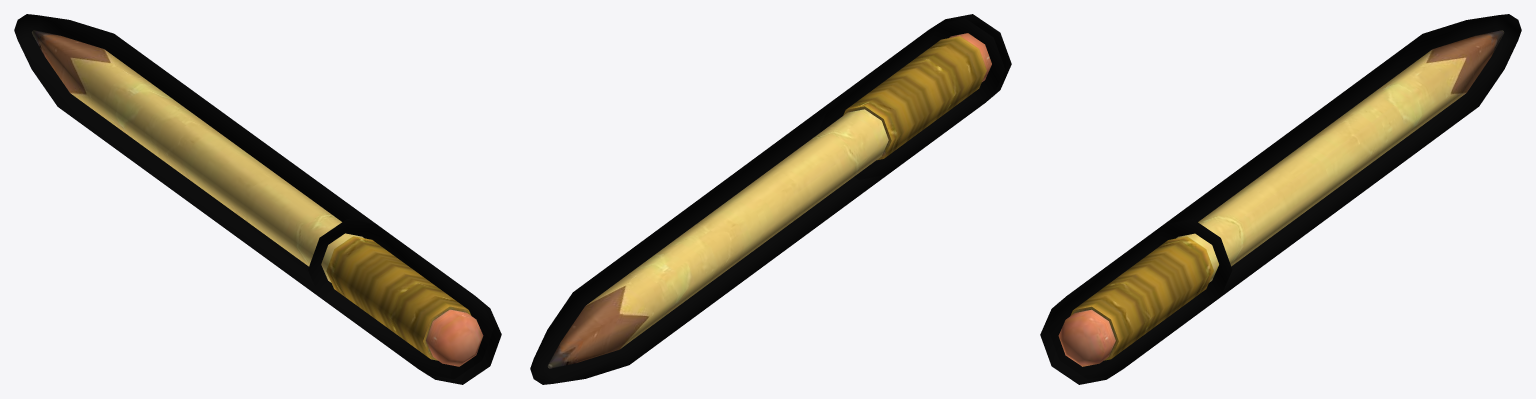
Rendered from Pencil 1.fbx.
3 renders of one model, left to right at view 1: azimuth 30°, elevation 25°; view 2: azimuth 150°, elevation 25°; view 3: azimuth 330°, elevation 25°, orthographic.
Parts seen in each view (by area): view 1: Pencil 1; view 2: Pencil 1; view 3: Pencil 1.
Part boxes in pixels (x1,y1,x2,y2): Pencil 1: (14,14,501,384); Pencil 1: (530,14,1011,384); Pencil 1: (1040,14,1521,384).
Size of the model in its own units: 2.56 by 2.5 by 23.88.
